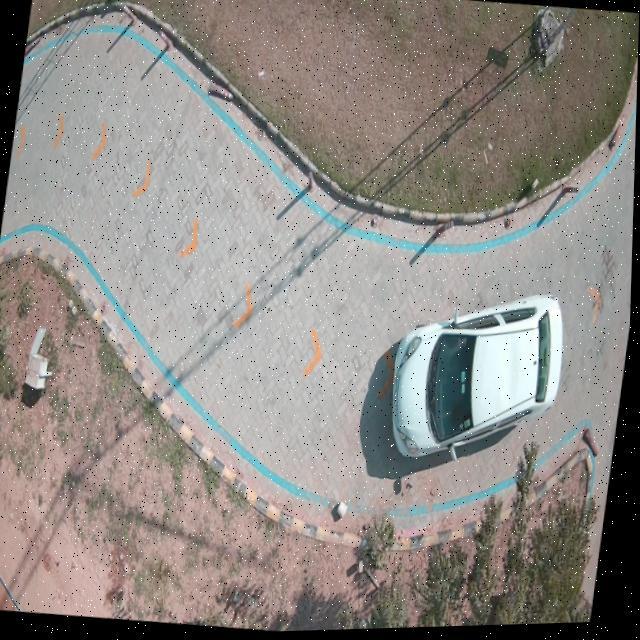car: (394, 296, 567, 461)
